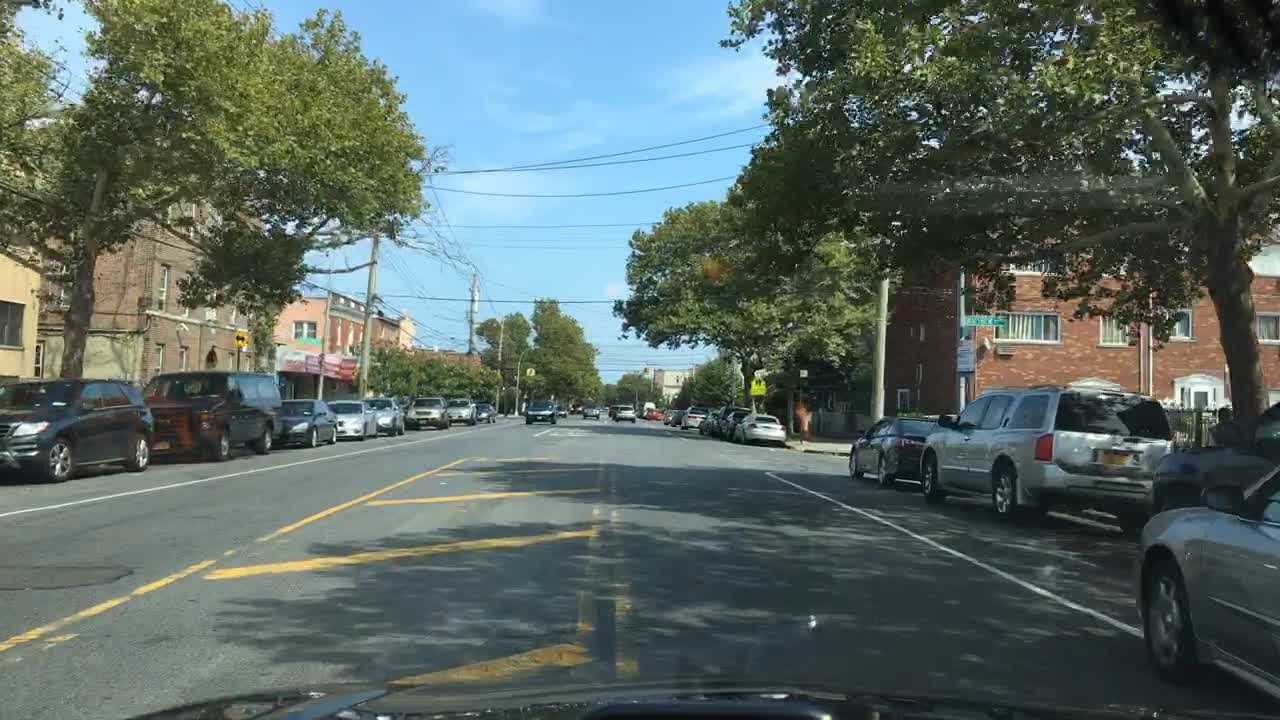car: (916, 378, 1173, 538), (1132, 459, 1279, 695), (0, 376, 152, 481), (1149, 400, 1279, 513), (141, 369, 282, 462), (845, 410, 955, 488), (278, 398, 341, 445), (325, 398, 378, 442), (361, 395, 406, 437), (732, 412, 786, 445), (401, 395, 450, 430), (444, 395, 476, 427), (521, 395, 555, 425), (722, 407, 751, 437), (712, 401, 737, 434), (678, 403, 710, 427), (693, 407, 720, 434), (611, 401, 638, 425), (474, 401, 498, 423), (658, 407, 678, 423), (644, 407, 665, 420), (638, 400, 656, 415), (670, 408, 688, 423), (580, 407, 600, 420), (553, 403, 567, 418), (568, 401, 585, 412), (604, 401, 617, 415)
person: (1206, 408, 1235, 450)
traffic sign: (955, 337, 973, 378), (962, 314, 1007, 327), (747, 374, 766, 396), (297, 334, 320, 347), (233, 331, 246, 344)
